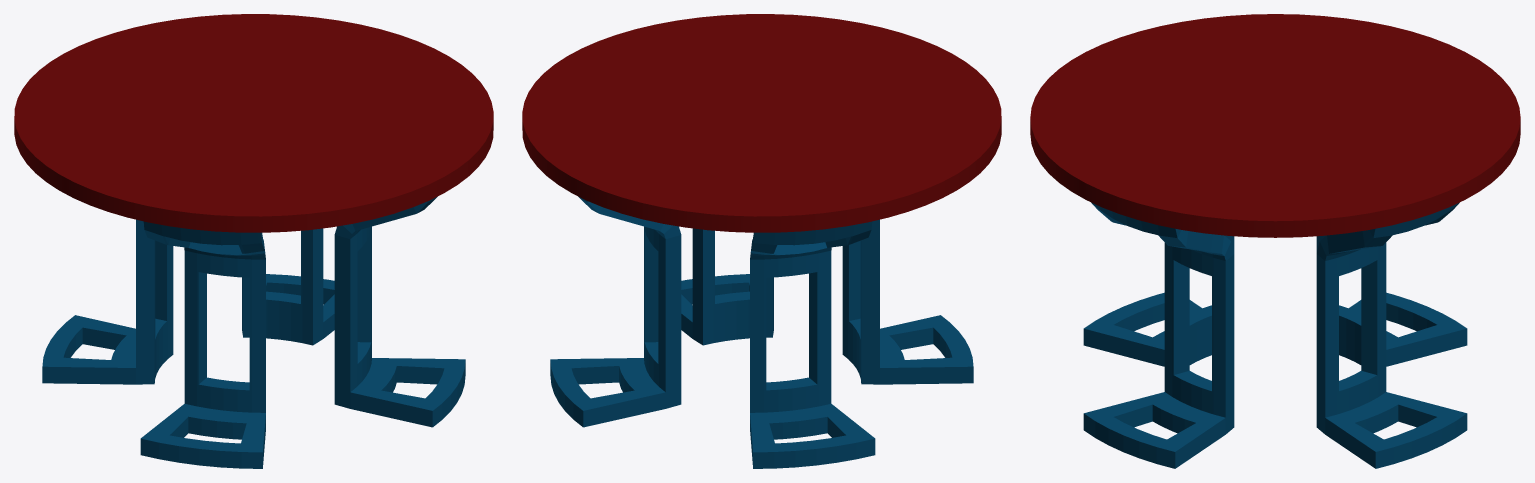
The model's file is MesaCombinada.fbx.
3 views of the same model, side by side, from view 1: azimuth 30°, elevation 25°; view 2: azimuth 150°, elevation 25°; view 3: azimuth 270°, elevation 25° (orthographic). The views are drawn at different scales.
Visible parts, largest first — view 1: MesaCombinada1; view 2: MesaCombinada1; view 3: MesaCombinada1.
Boxes of the visible parts, left/top/right/bottom form: MesaCombinada1: left=14, top=14, right=493, bottom=468; MesaCombinada1: left=522, top=14, right=1001, bottom=468; MesaCombinada1: left=1030, top=14, right=1520, bottom=468.
Size of the model in its own units: 240 by 146 by 240.
